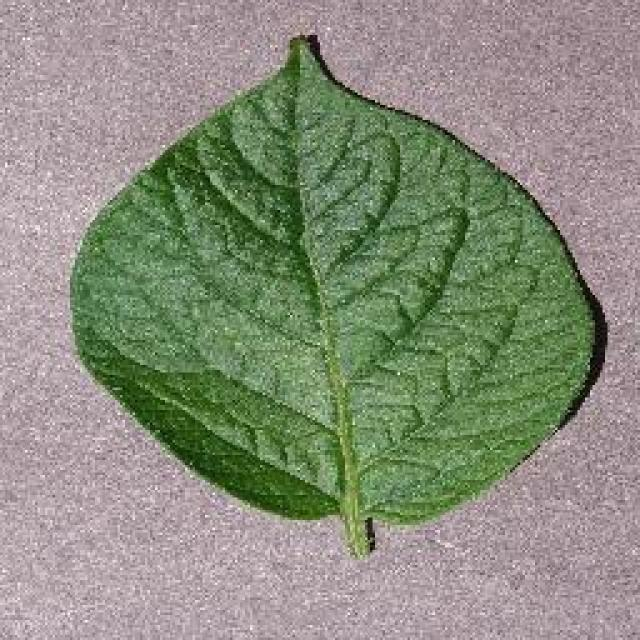Potato: (65, 30, 607, 558)
